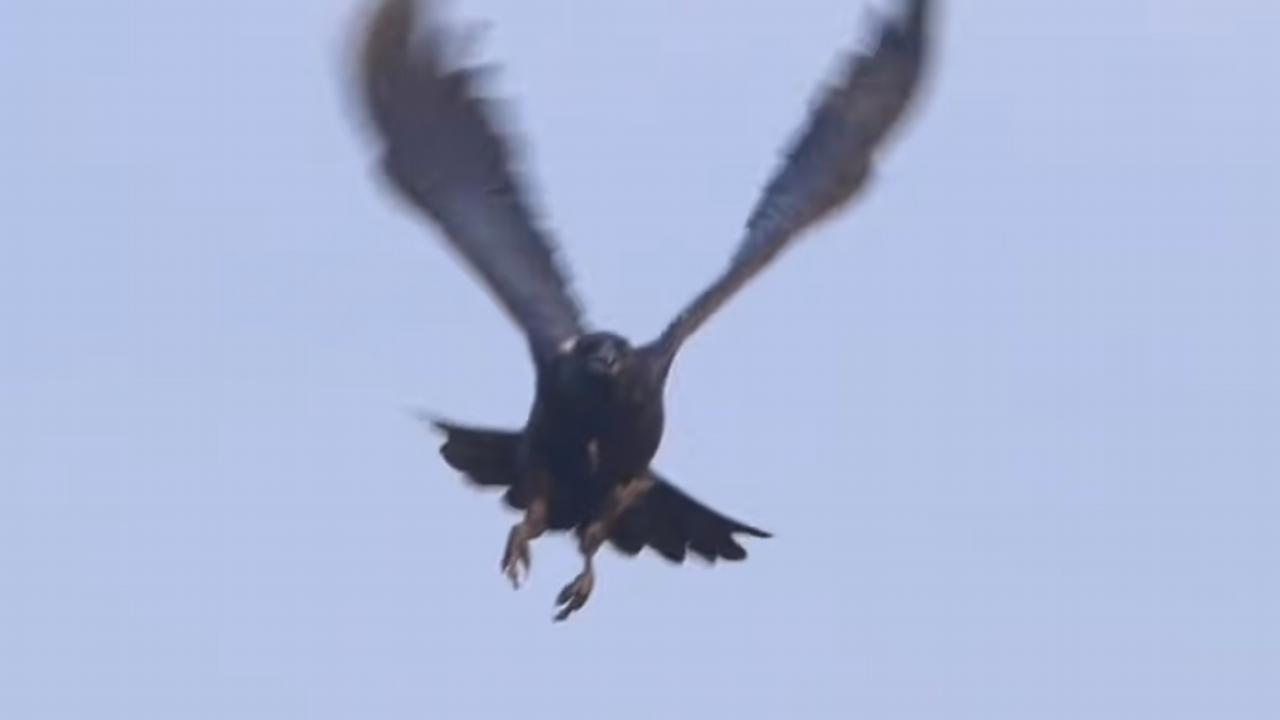Bird: (318, 0, 936, 632)
